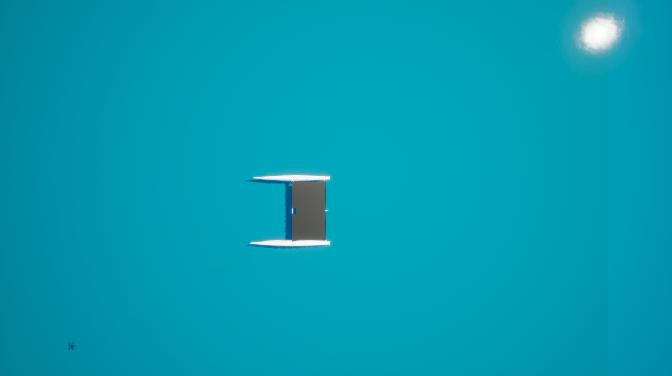boat: (248, 173, 334, 252)
drone: (67, 339, 77, 356)
land_base: (292, 182, 324, 238)
light_reflex: (562, 3, 639, 63)
